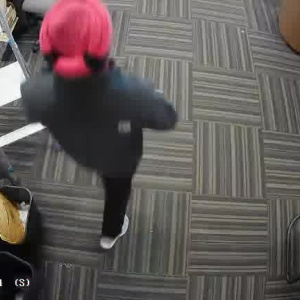person: (20, 11, 163, 219)
